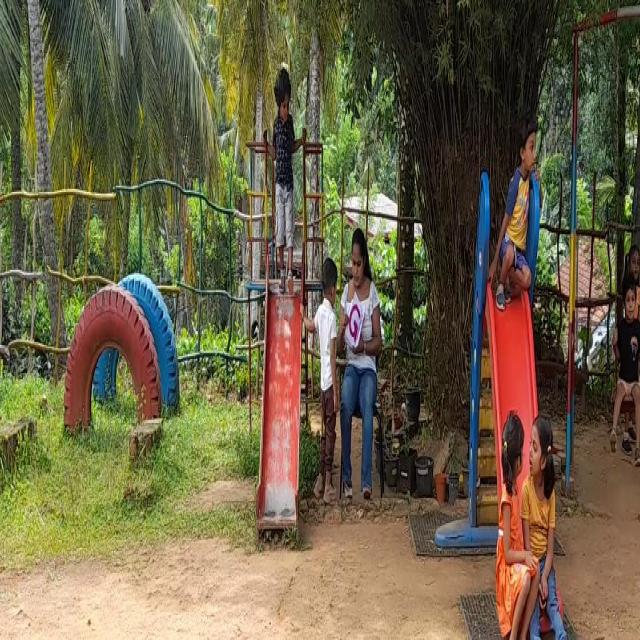adult: (337, 215, 381, 498)
child: (521, 406, 574, 640), (490, 399, 529, 640), (264, 55, 302, 302), (307, 251, 343, 511), (497, 113, 540, 293), (611, 272, 640, 448)
